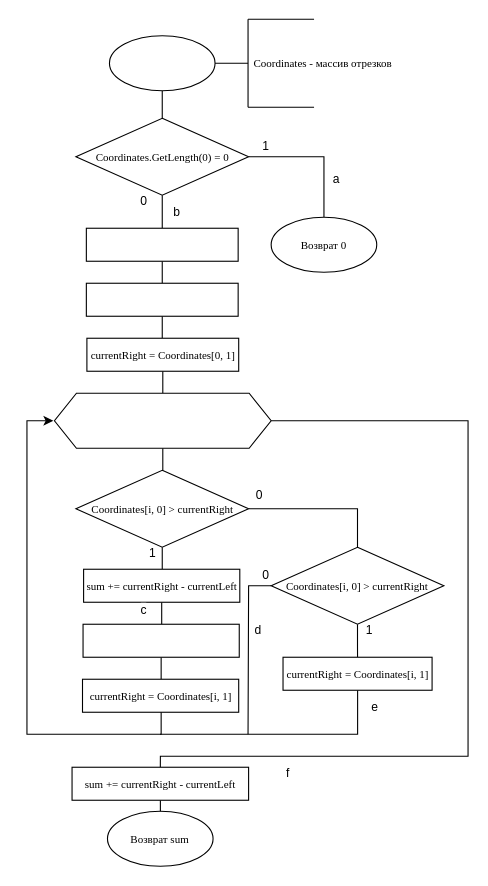
Some shapes in this 488 by 886 pixel diagram are drawn without their labels. The centre of each missing label's shape, as x and y in pixels:
"CalculateSum" belongs at (x=161, y=63).
"currentLeft = Coordinates[0, 0]" belongs at (x=161, y=299).
"currentLeft = Coordinates[i, 0]" belongs at (x=160, y=640).
"i = 0; i < Coordinates.GetLength(0); i += 1" belongs at (x=162, y=420).
"sum = 0" belongs at (x=161, y=244).
